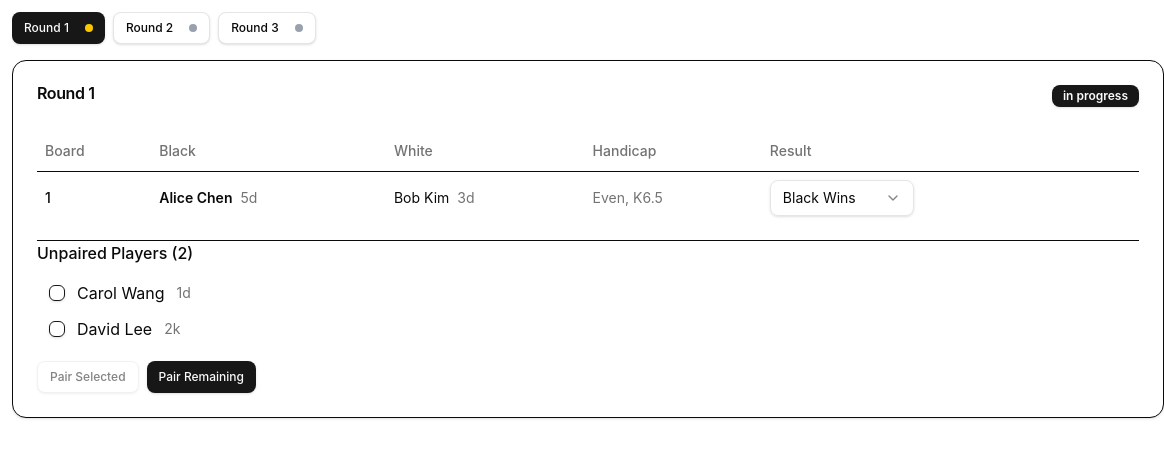
Test: RoundManager › disables Pair all players and shows hint when previous round is not completed
Switch to Round 2
What coordinates should you click on to do the following:
click the button "Round 2"
I would click on:
 (162, 28)
Its box is [113,12,210,44].
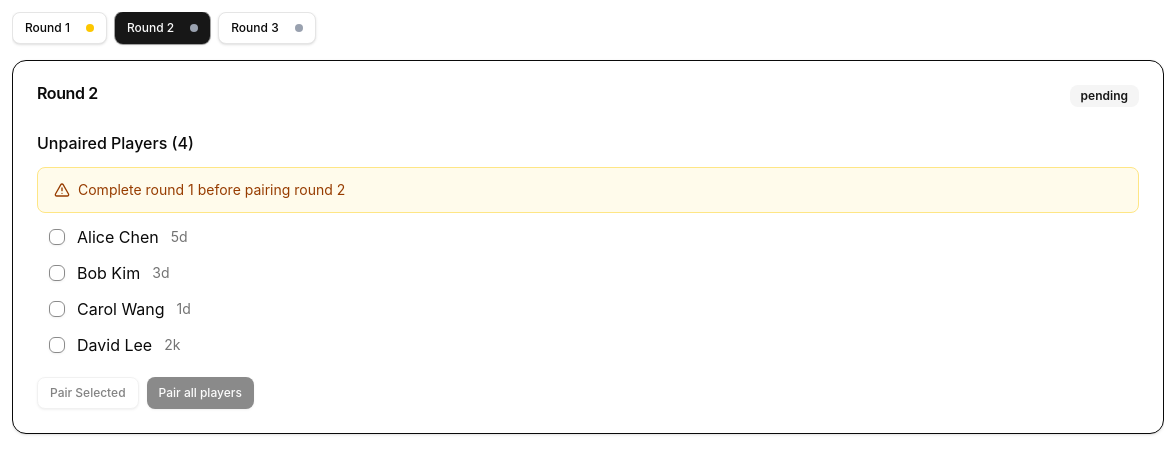
Check: the button "Pair all players" is disabled, box [147,377,254,409]
Check: the text "Complete round 1 before pairing round 2" is shown, box [78,180,345,200]
